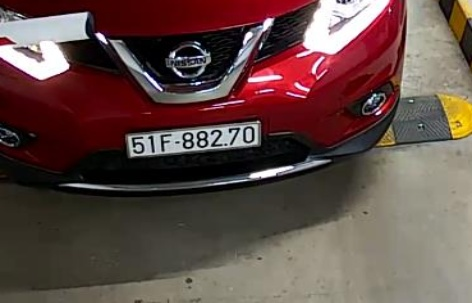plate: (124, 125, 263, 157)
